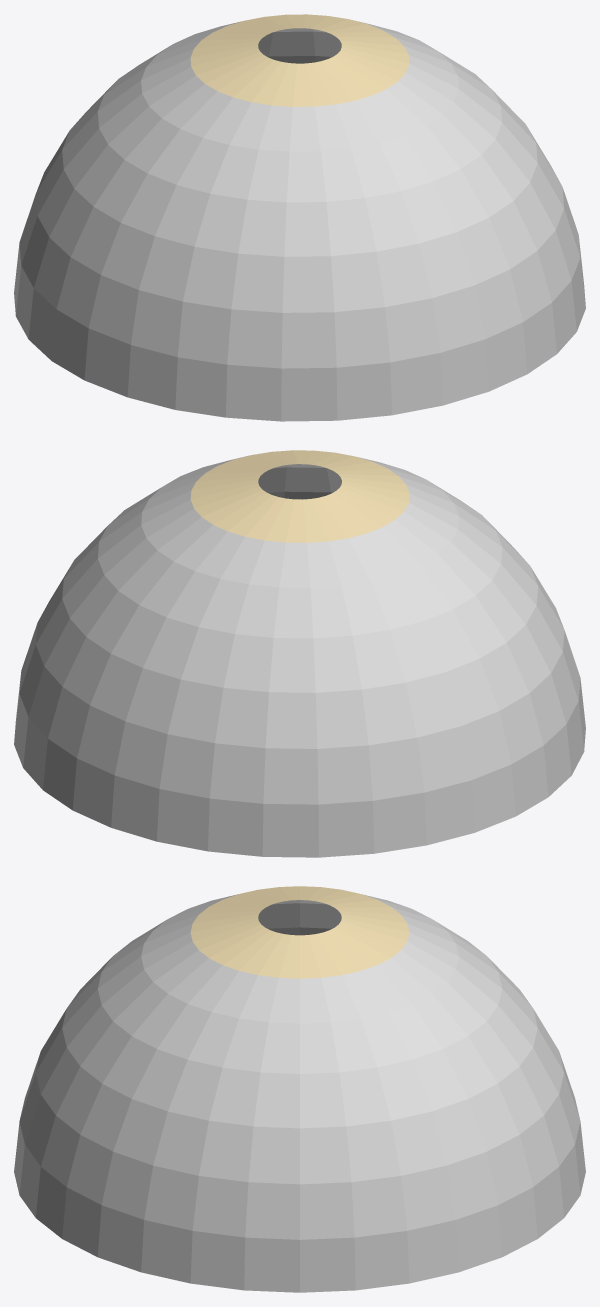
The model's file is pantheon-ceiling.fbx.
3 views of the same model, one above another, from view 1: azimuth 30°, elevation 25°; view 2: azimuth 150°, elevation 25°; view 3: azimuth 270°, elevation 25° (orthographic).
Parts seen in each view (by area): view 1: Sphere; view 2: Sphere; view 3: Sphere.
Part boxes in pixels (x1,y1,x2,y2): Sphere: [14, 14, 585, 421]; Sphere: [14, 450, 585, 857]; Sphere: [14, 886, 585, 1292].
Size of the model in its own units: 6000 by 2947 by 6000.
